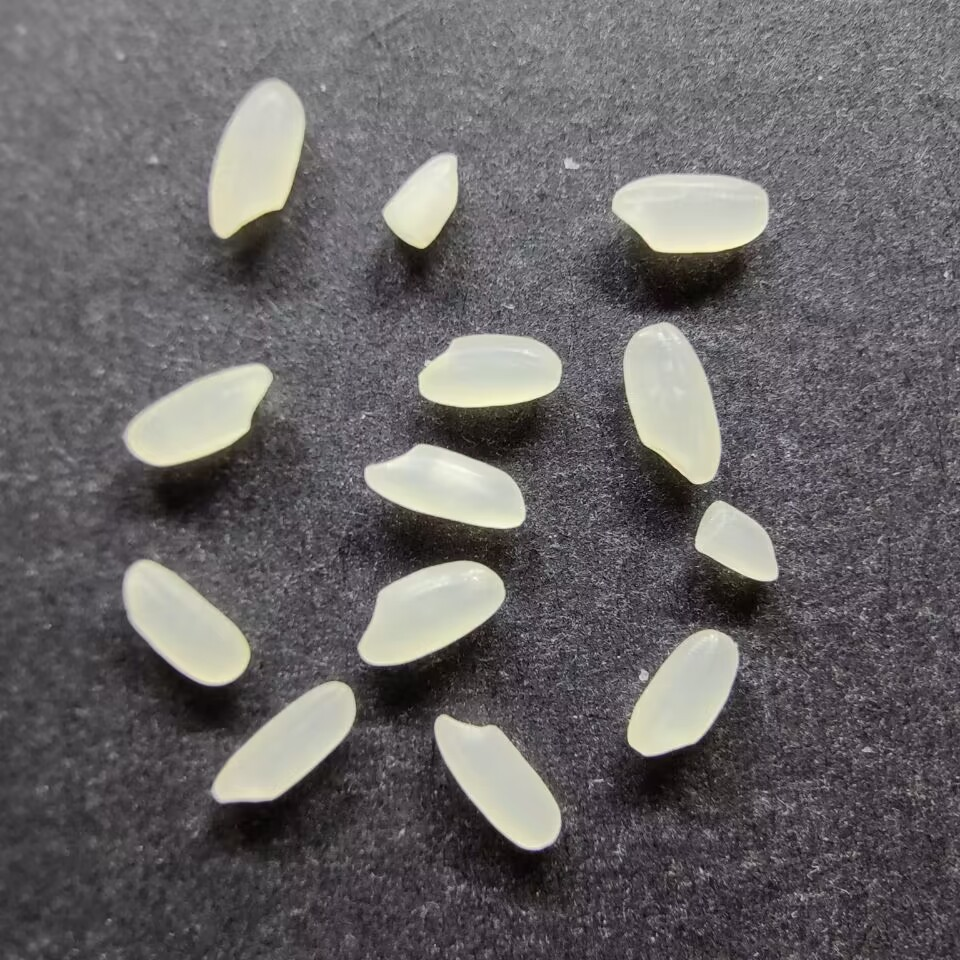broken: (380, 151, 463, 252), (695, 500, 782, 585)
rice: (207, 679, 359, 805), (434, 711, 563, 853), (120, 557, 252, 689), (120, 361, 273, 469), (621, 321, 721, 486), (355, 559, 506, 667), (206, 76, 305, 240), (362, 441, 527, 532), (626, 625, 739, 757), (609, 171, 770, 256), (416, 332, 563, 409)
